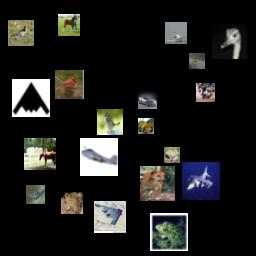airplane: (80, 138, 118, 176), (182, 162, 220, 200), (12, 79, 50, 117), (94, 201, 126, 233), (26, 185, 45, 204)
automobile: (138, 90, 157, 109)
bird: (212, 24, 247, 59), (55, 70, 84, 99), (8, 20, 34, 46), (97, 109, 123, 135)
deer: (189, 53, 205, 69)
dog: (140, 166, 175, 201)
frog: (150, 213, 188, 251), (61, 192, 83, 214), (164, 147, 180, 163)
ship: (165, 22, 187, 44)
truck: (138, 118, 154, 134)
